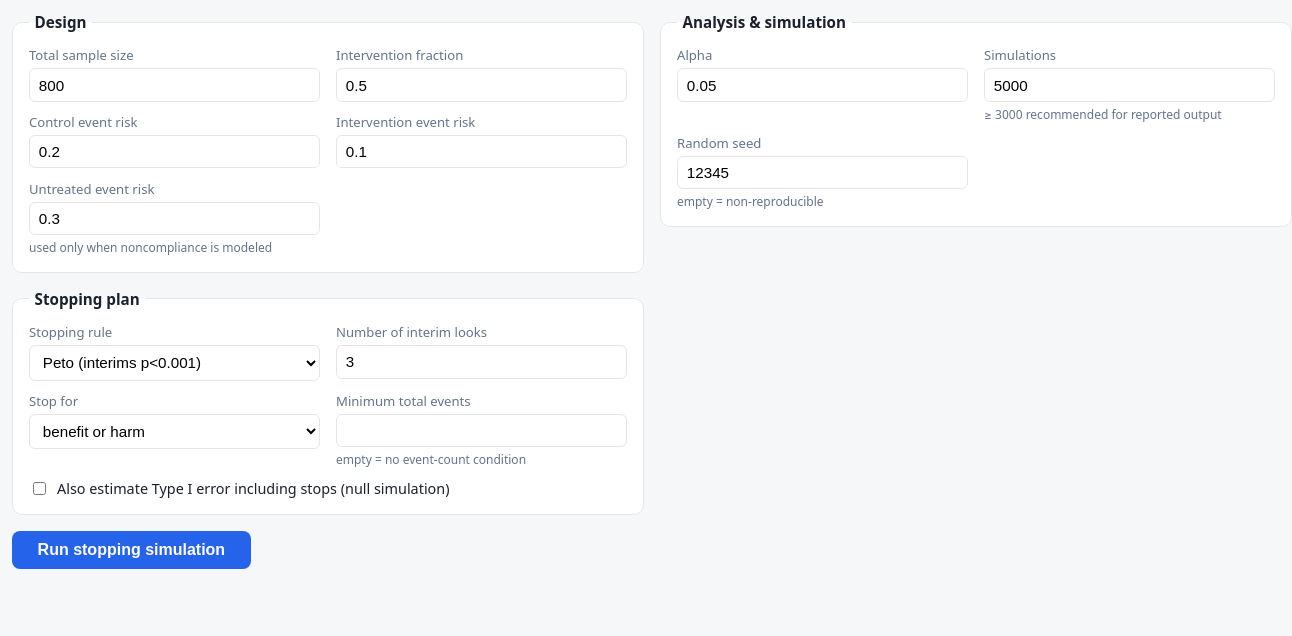
StoppingRules › routes unmapped 422 errors to the base fields and the general banner
Click the button with test id "run-button" at (131, 550), box [12,531,251,569]
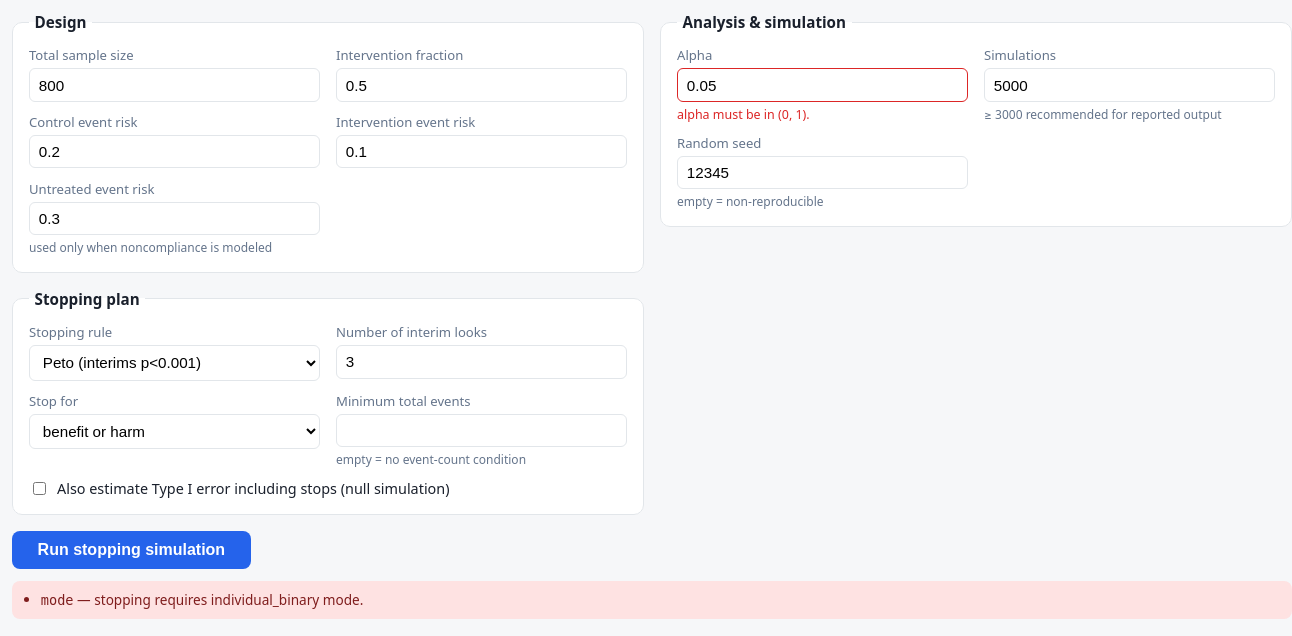
Expected: the text "alpha must be in (0, 1)." is shown, [677,106,810,123]
Expected: the message "mode — stopping requires individual_binary mode." is shown, [12,581,1291,619]
